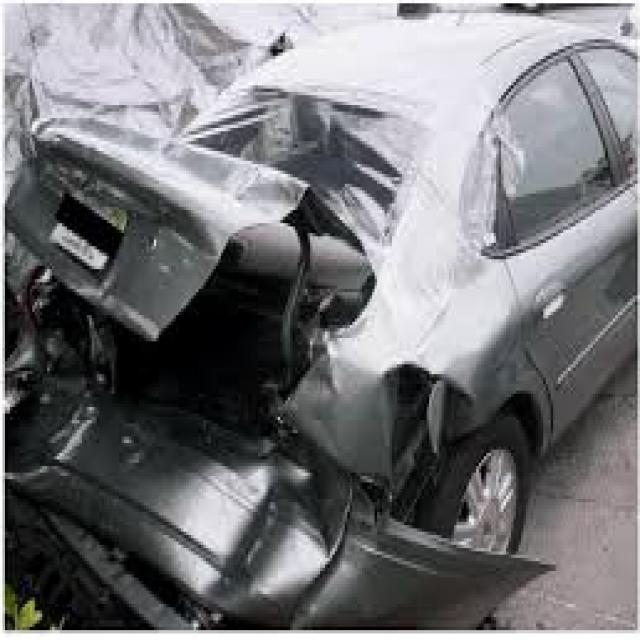damaged-rear-bumper: (28, 362, 436, 622)
